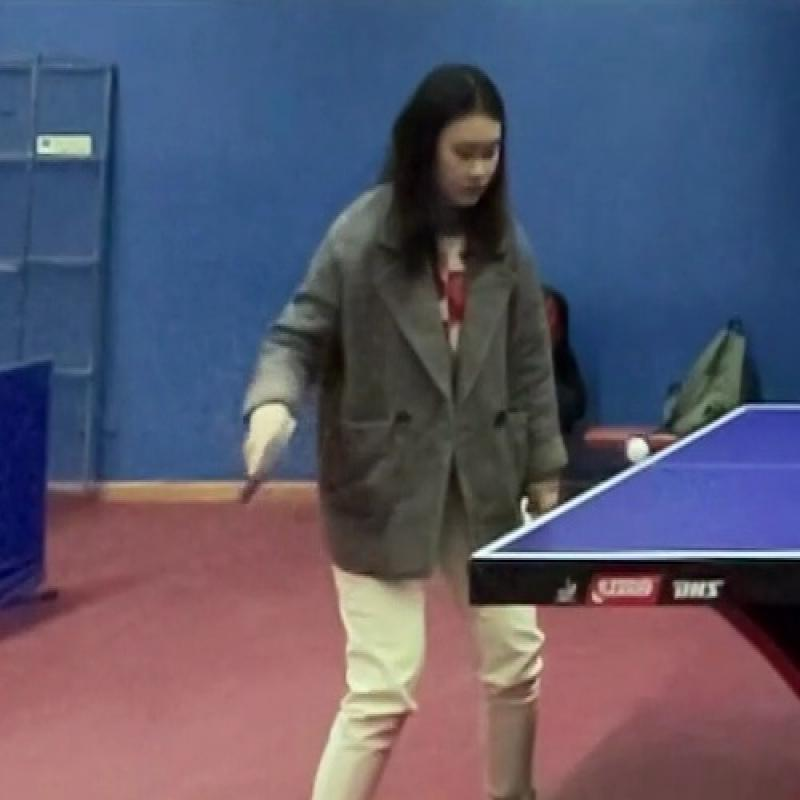bats: (219, 402, 301, 530)
